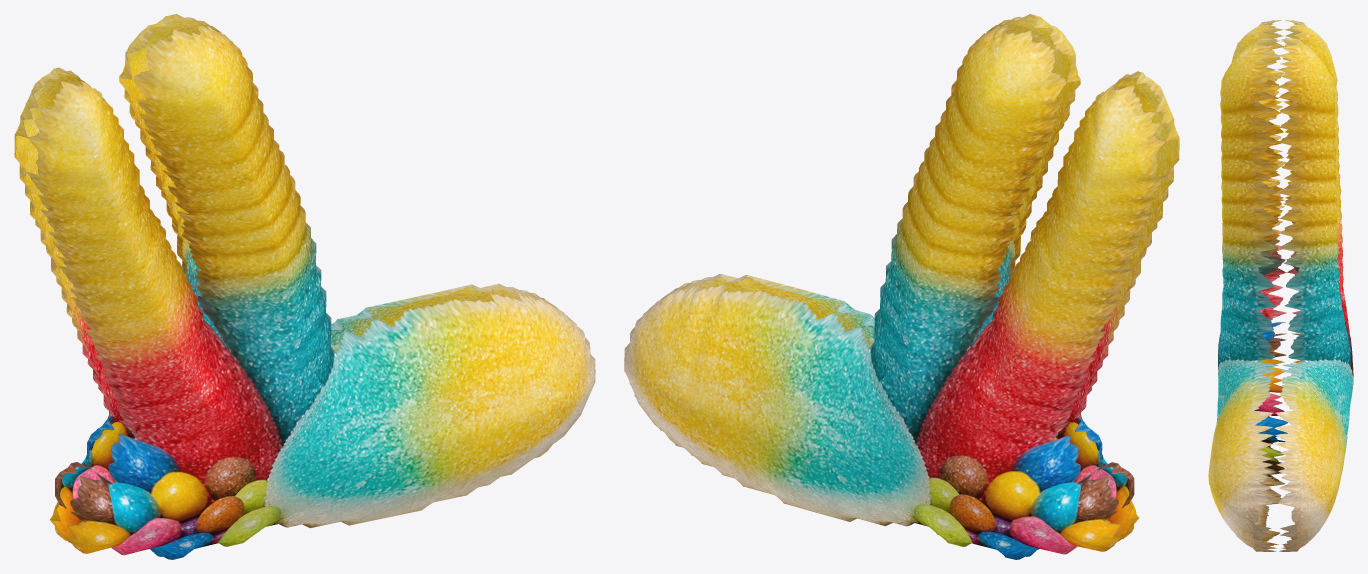
The model's file is dulces.glb.
3 renders of one model, left to right at view 1: azimuth 30°, elevation 25°; view 2: azimuth 150°, elevation 25°; view 3: azimuth 270°, elevation 25°, orthographic. The views are drawn at different scales.
Visible parts, largest first — view 1: dulces; view 2: dulces; view 3: dulces.
Part boxes in pixels (left/top/right/bottom): dulces: left=14, top=14, right=595, bottom=559; dulces: left=624, top=14, right=1179, bottom=559; dulces: left=1208, top=20, right=1353, bottom=551.
Bounding box in the file's own units: 1.98 × 1.85 × 0.5884.
1 material, 1 textured.
